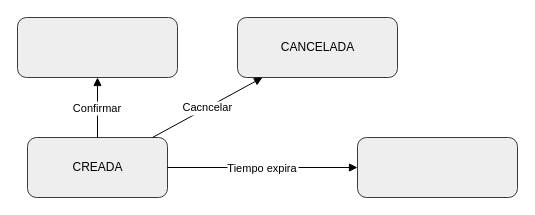
Some shapes in this 535 by 215 pixel diagram are drawn without their labels. Here are the shapes that lost their labels. From the top down, the centre of each, then its label:
point 97,47: CONFIRMADA
point 437,167: EXPIRADA
